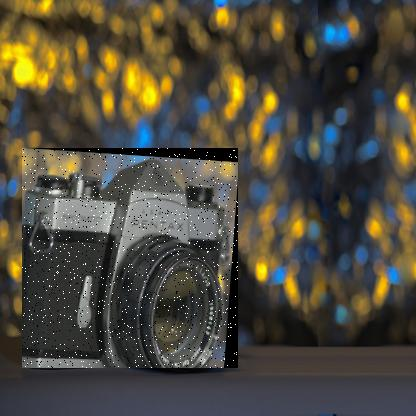Camera: (23, 149, 240, 370)
